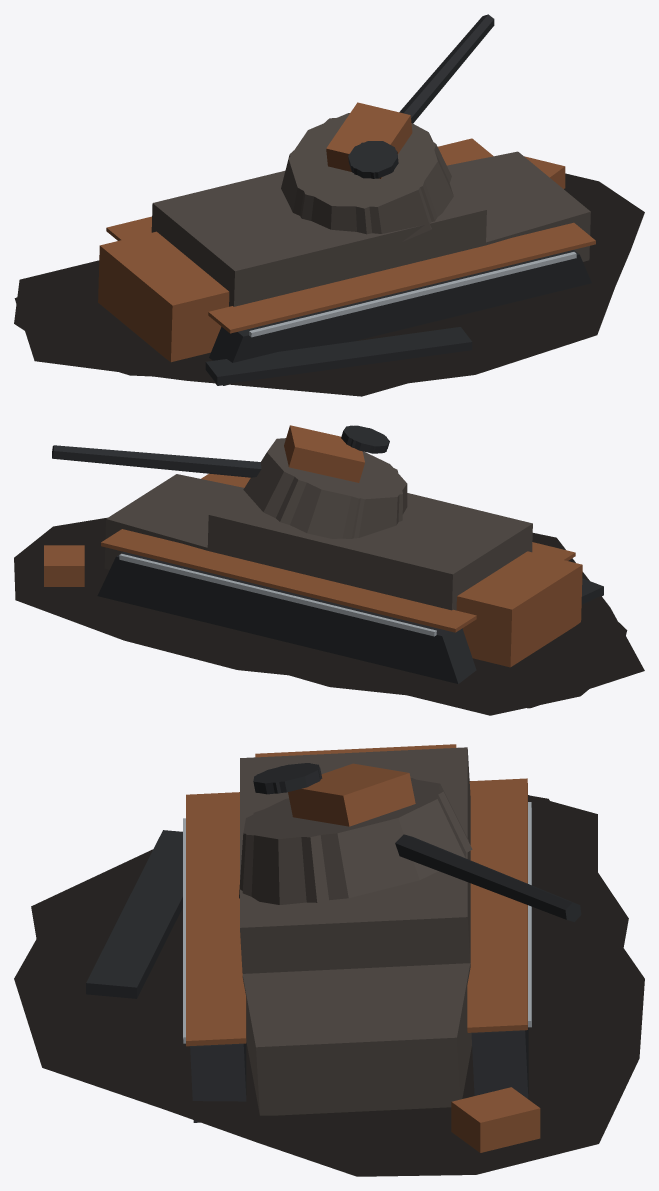
Rendered from neutral_wreck_medium_vehicle.glb.
3 views of the same model, one above another, from view 1: azimuth 30°, elevation 25°; view 2: azimuth 150°, elevation 25°; view 3: azimuth 270°, elevation 25° (orthographic). The views are drawn at different scales.
Visible parts, largest first — view 1: hull, scorch (×2), turret (×3), debris, barrel; view 2: hull, scorch (×2), turret (×2), barrel, debris; view 3: hull, scorch (×2), turret (×3), debris, barrel.
Boxes of the visible parts, x1,y1,x2,y2 form: hull: (98,138,595,385); scorch (×2): (14,173,644,396); turret (×3): (281,102,453,241); debris: (205,156,565,385); barrel: (399,14,494,123); hull: (97,473,582,683); scorch (×2): (14,517,644,715); turret (×2): (243,425,407,538); barrel: (52,445,261,477); debris: (44,545,603,604); hull: (183,744,531,1122); scorch (×2): (14,781,644,1176); turret (×3): (239,763,472,904); debris: (86,830,540,1152); barrel: (395,834,581,921).
Bounding box in the file's own units: 8.41 × 2.3 × 5.45.
